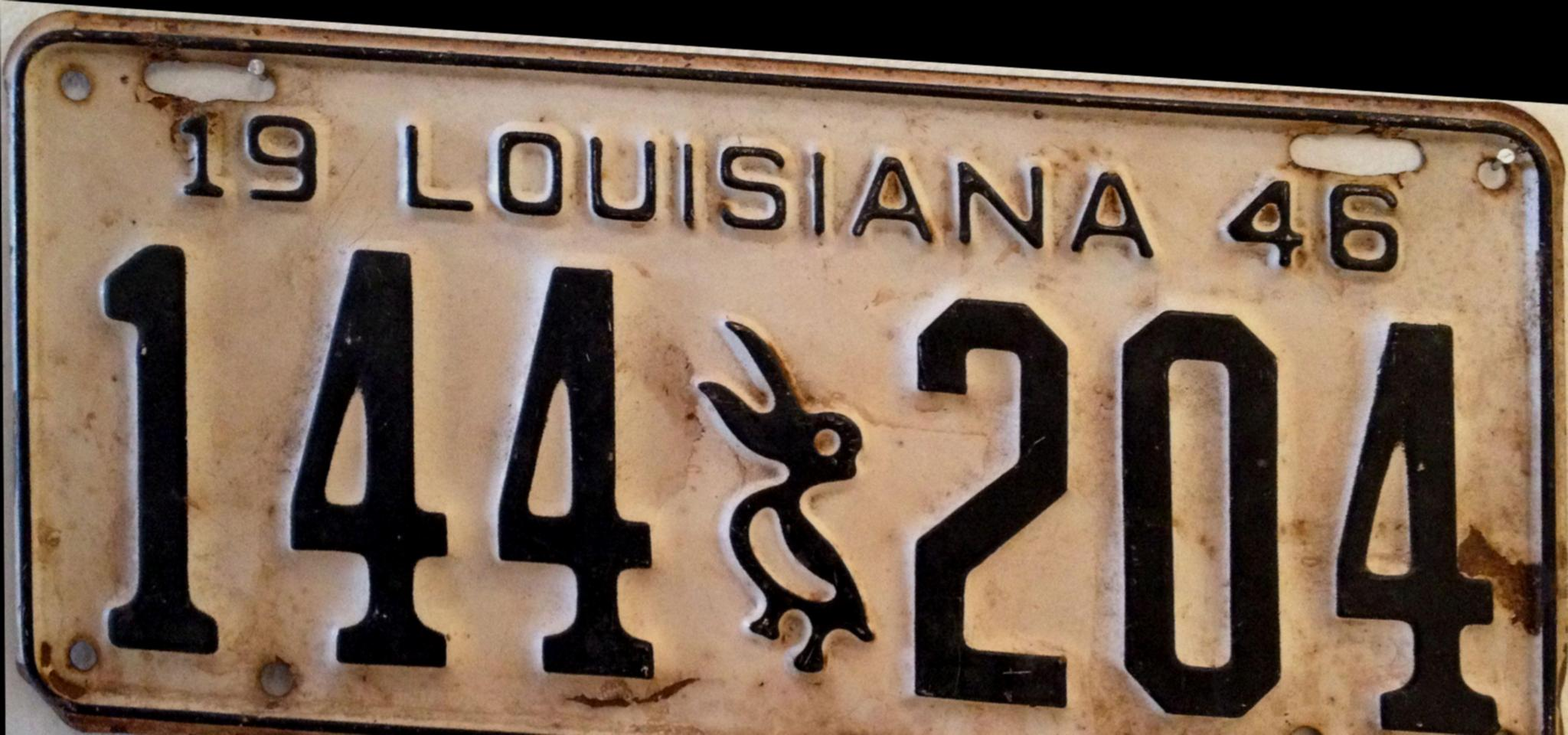License_Plate: (26, 30, 1539, 735)
